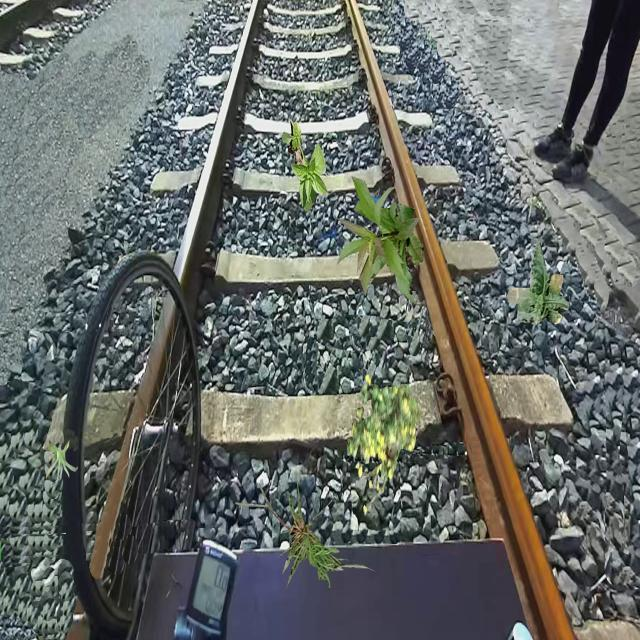Plant: (235, 472, 378, 592), (335, 176, 423, 306), (347, 374, 422, 514), (506, 242, 570, 325), (282, 119, 330, 214), (46, 439, 78, 485)
